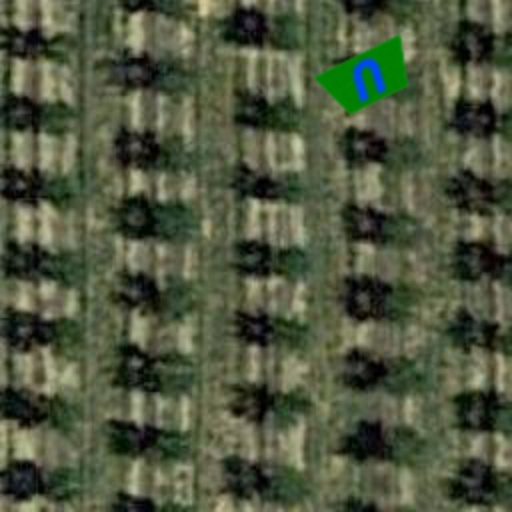trapezoid: (302, 12, 434, 144)
